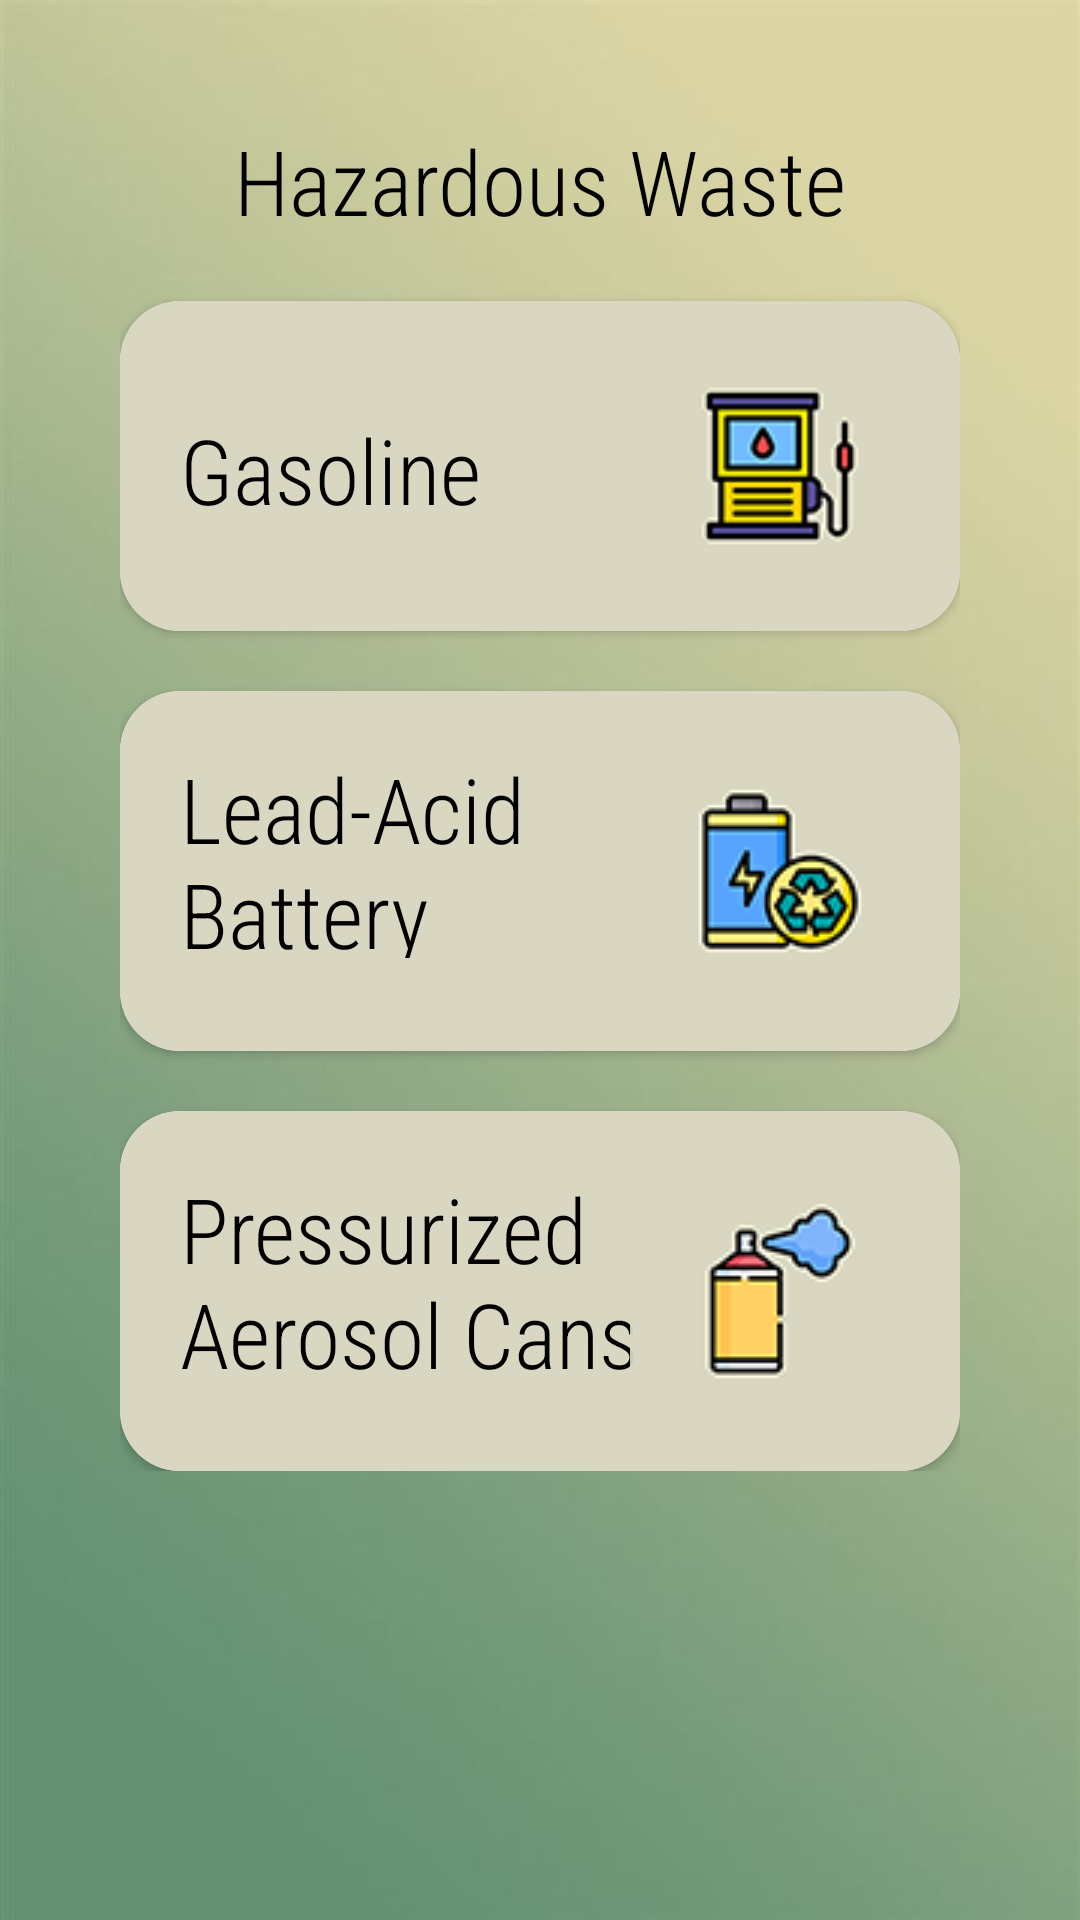

Icons on this 1080px x 1920px Android screen, each with the point to tap as (x,y):
leadacidbatteries: (780,871)
